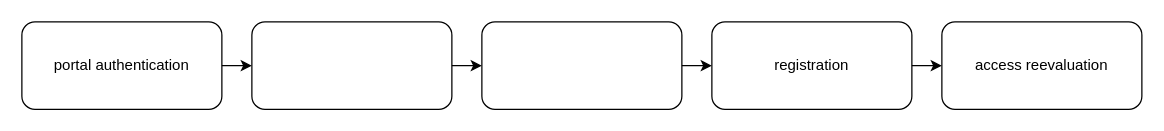
The diagram is 1164 pixels wide and 131 high, and some of its shapes have lost their labels. The shapes that lost their labels are listed below. From the top down, each one's centre as x and y in pixels, then its label:
point (351, 65): Pending Approval
point (581, 65): administrator approval
